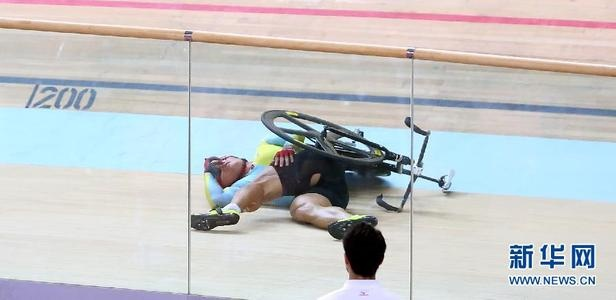falling: (181, 125, 390, 244)
